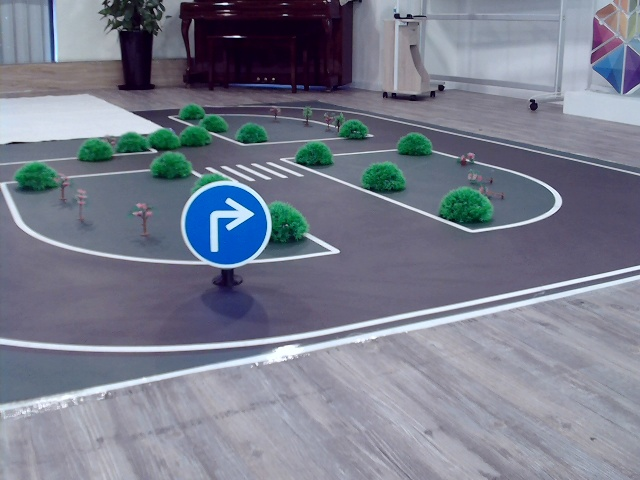turn_right: (206, 198, 254, 252)
